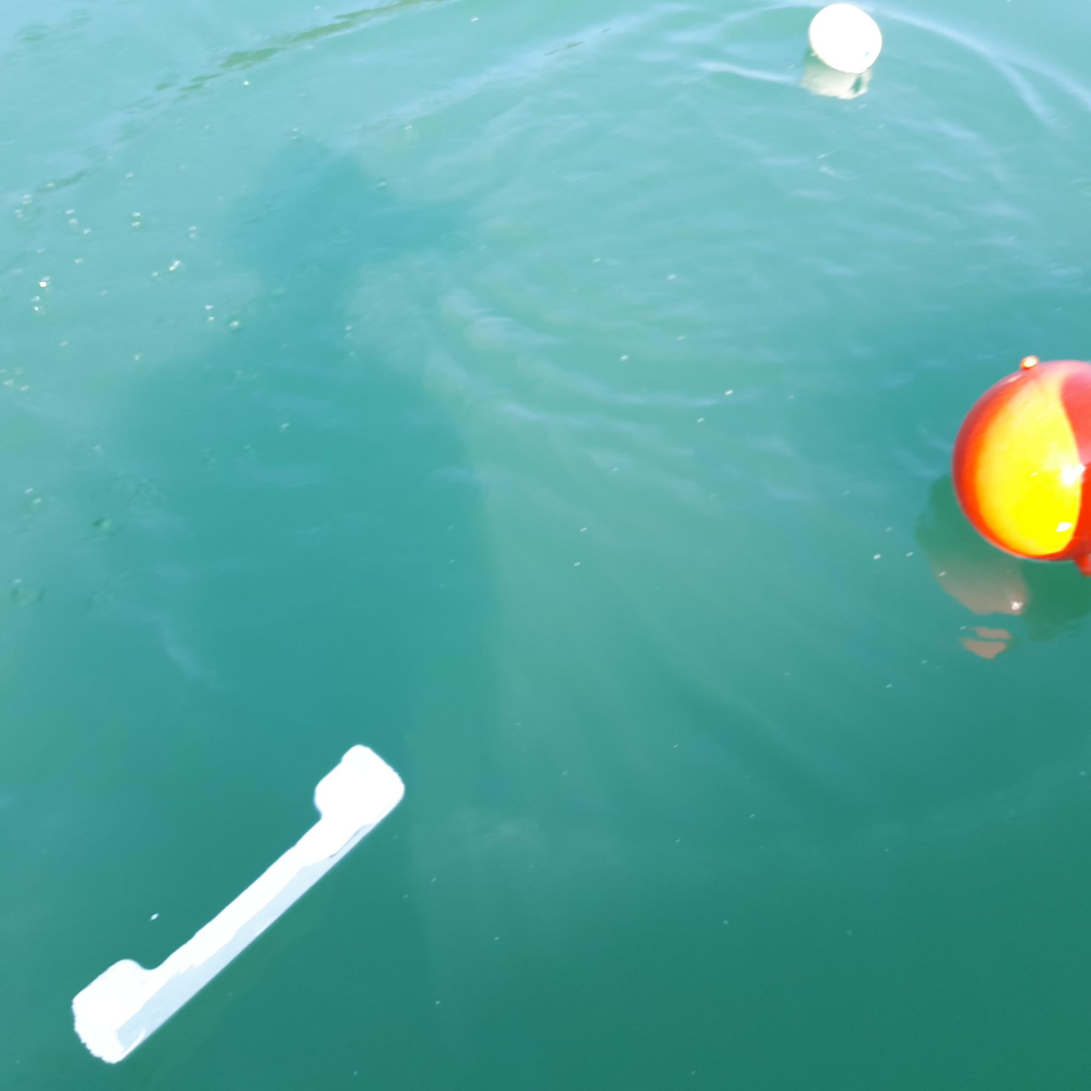sampah_terapung: (71, 745, 405, 1067), (952, 356, 1091, 577), (810, 3, 883, 75)
